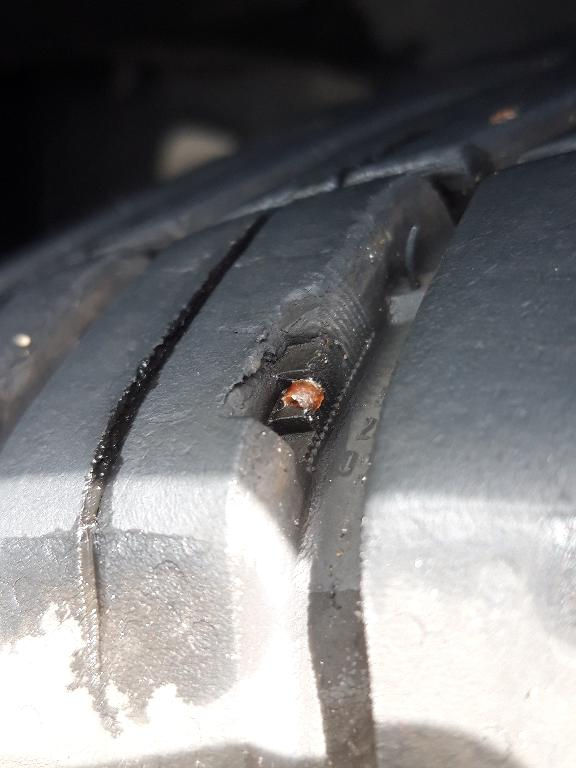temoin:80: (212, 266, 381, 487)
